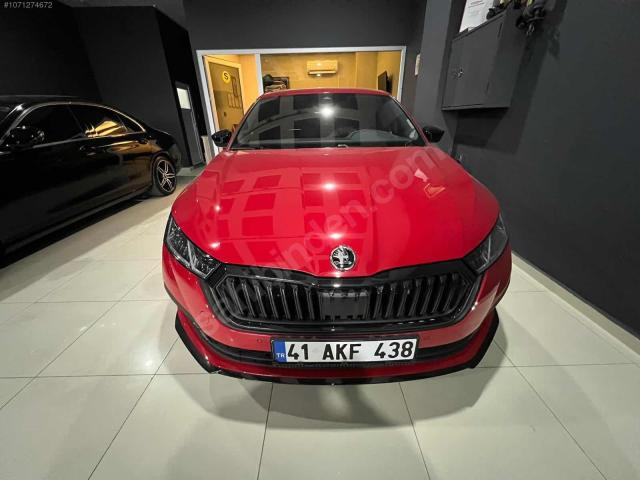plaka: (272, 338, 418, 364)
